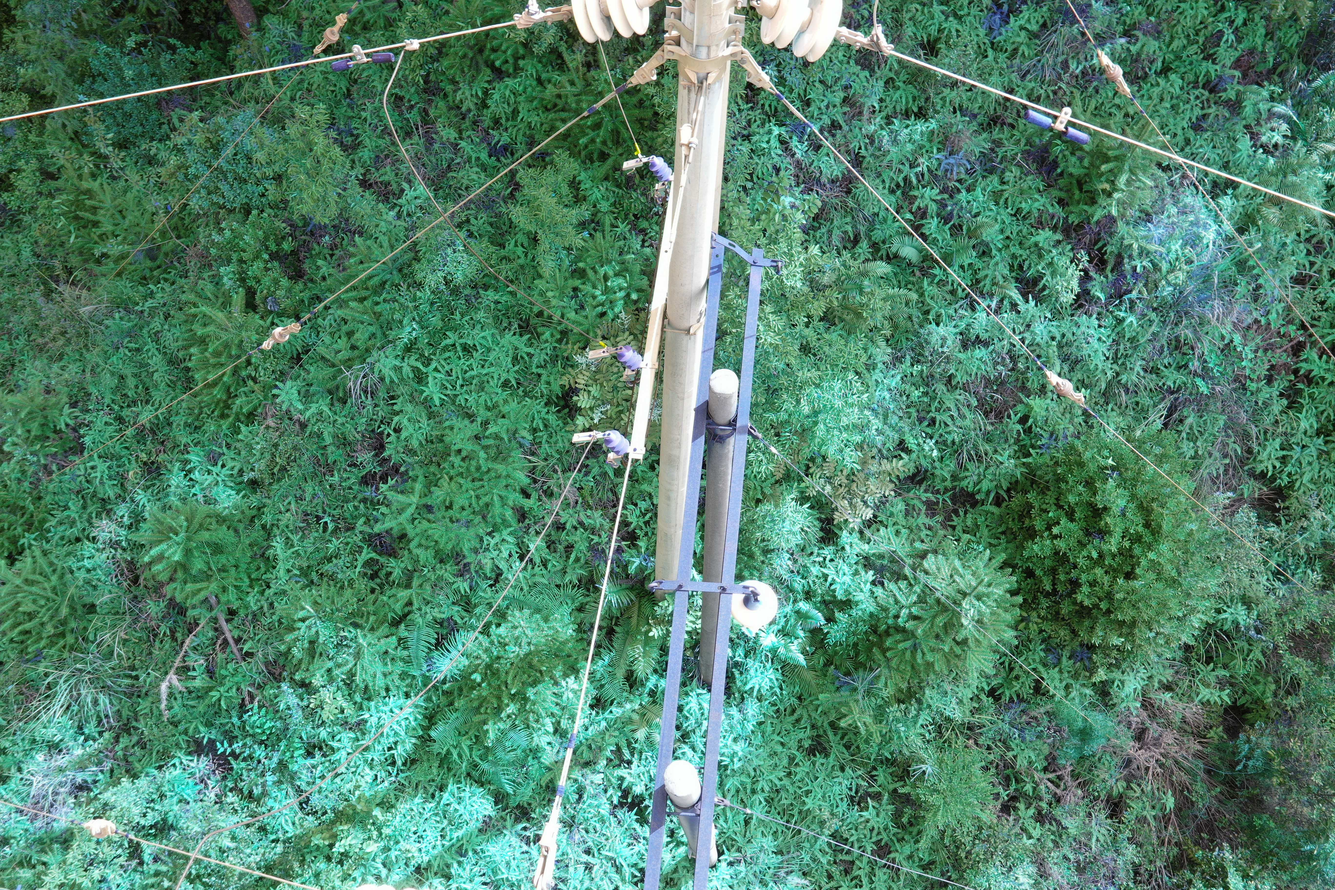severe_soiling_no_discharge_whole: (793, 1, 843, 63), (571, 0, 616, 45)
